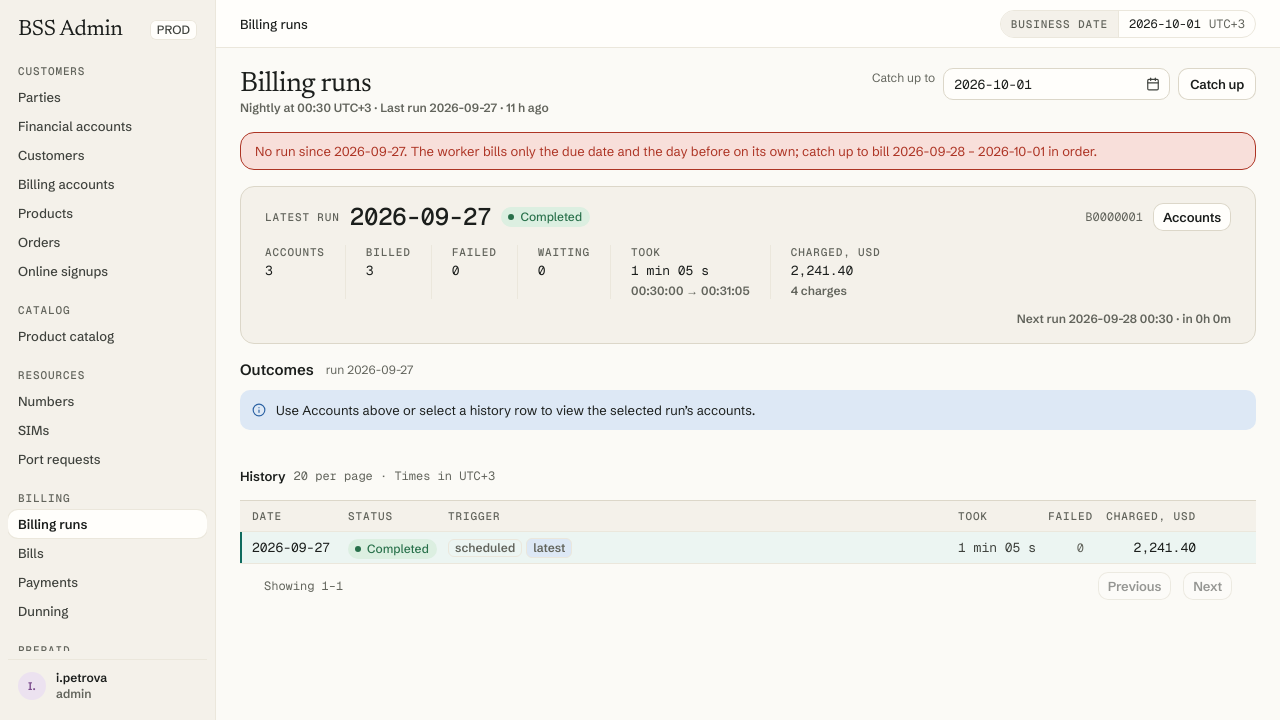
Test case: billing runs: catch up to a date › catches up to an earlier date, several dates in order
The image size is (1280, 720).
Expected: the element "Latest run" is shown, [240,186,1256,344]
Replace the text in the field labelled "Catch up to" with "2026-09-30" at (1057, 84), box [943,68,1170,100]
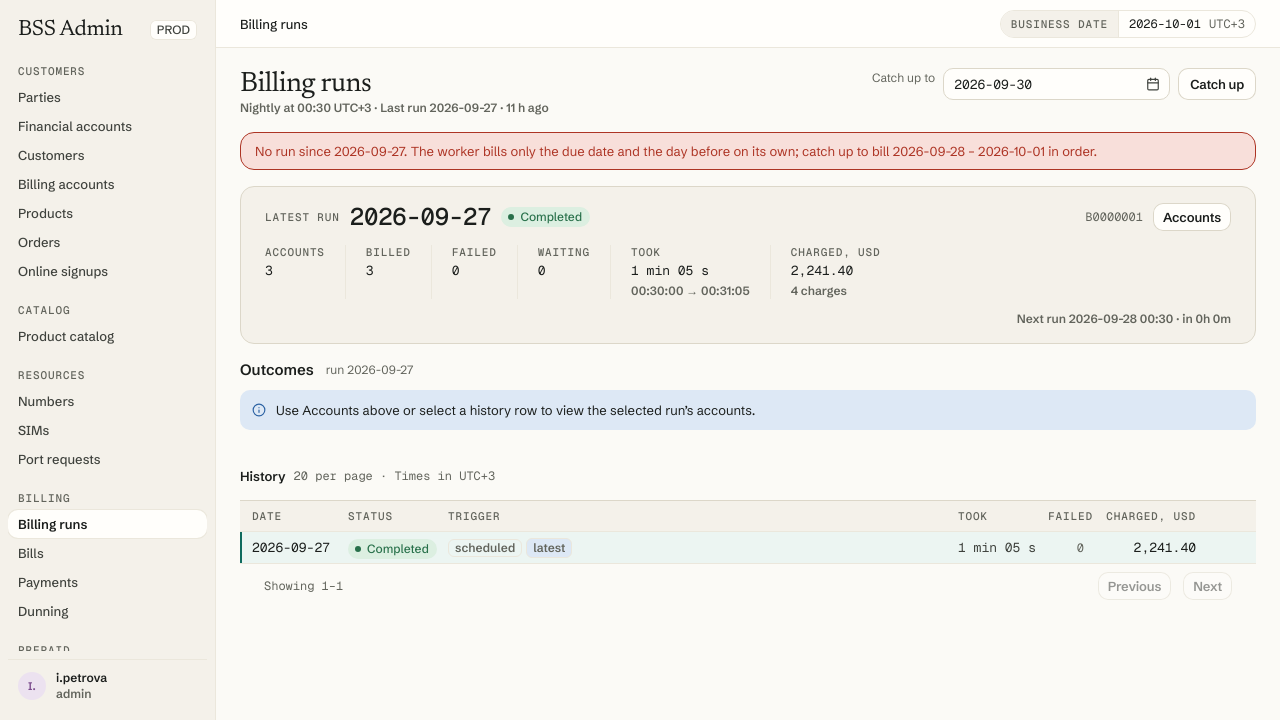
Click the button "Catch up".
click(1217, 84)  # box [1178,68,1256,100]
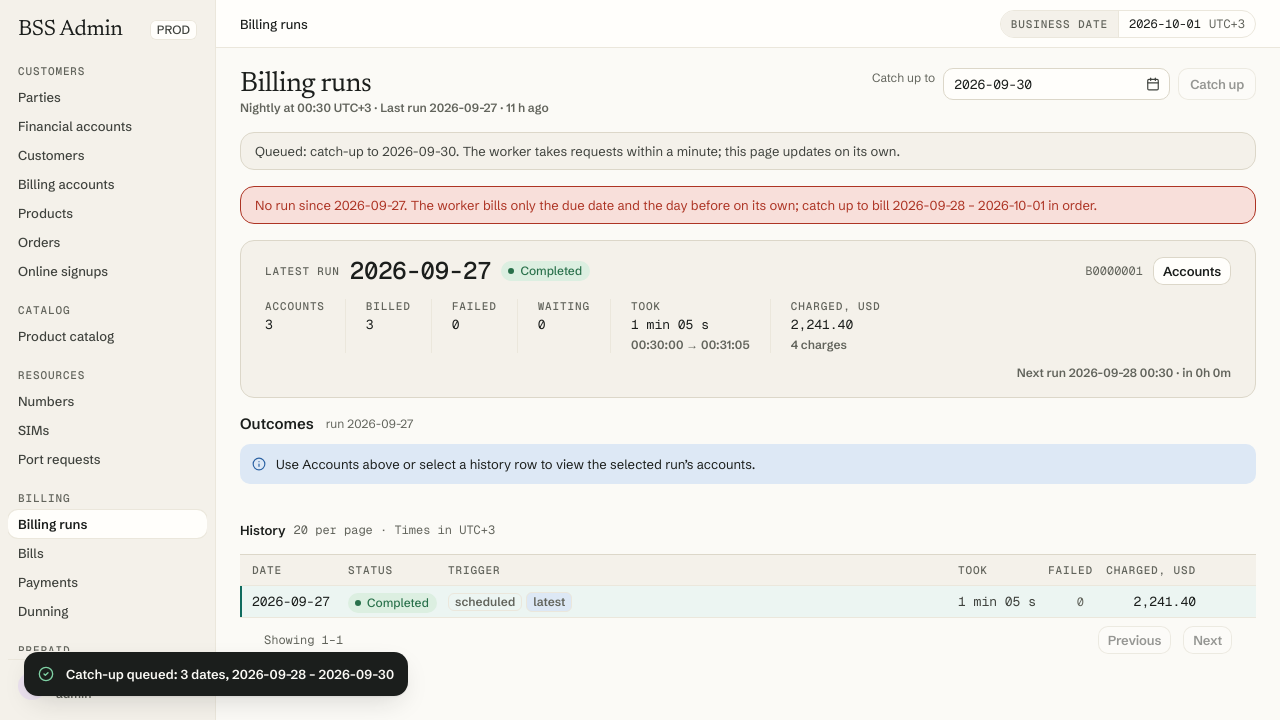
Expected: the text "Catch-up queued: 3 dates, 2026-09-28 – 2026-09-30" is shown, [66,664,394,684]
